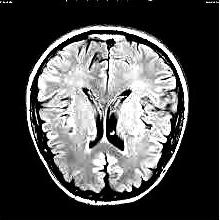Normal_Brain: (1, 1, 219, 220)
